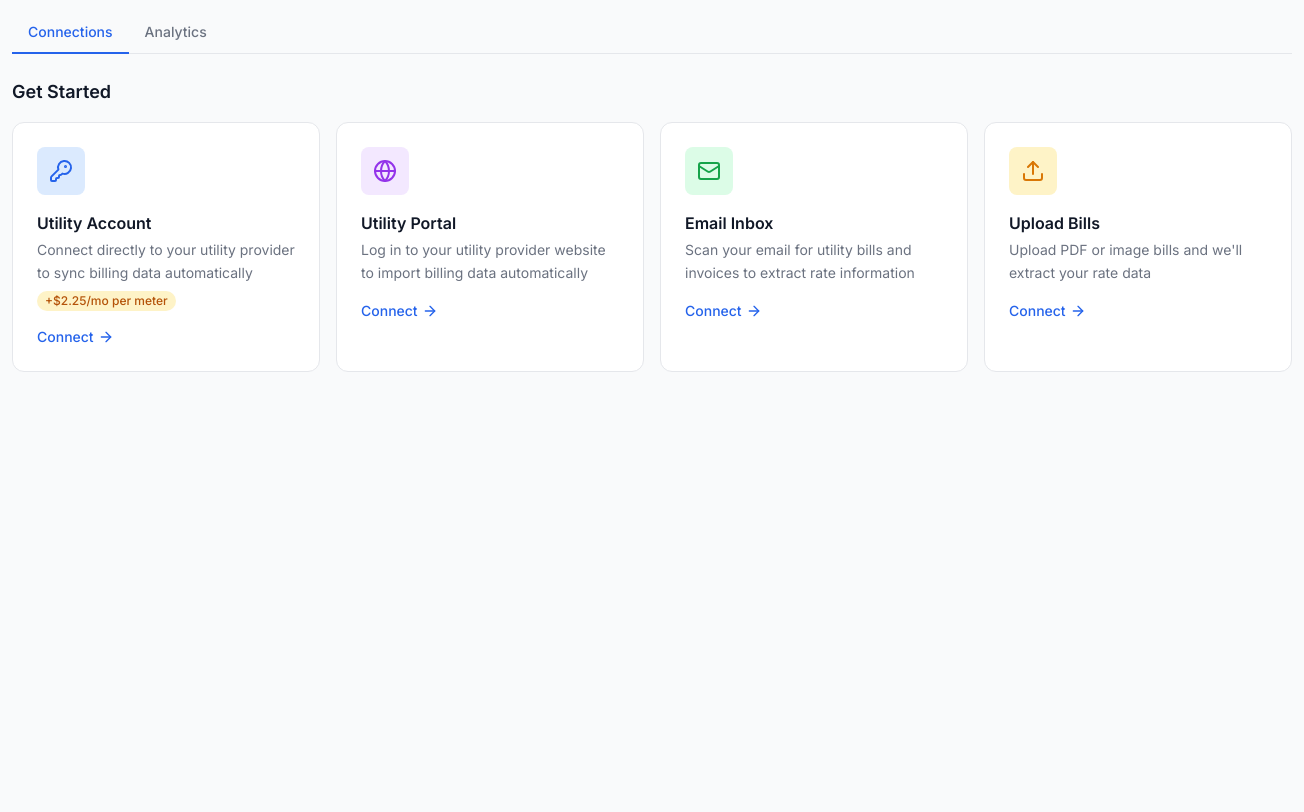
Test case: ConnectionsOverview › switches to analytics tab when clicked
expect the heading "Get Started" is shown: met, box [12,81,111,102]
Click the tab "Analytics": coordinates (176, 33) [129,12,223,54]
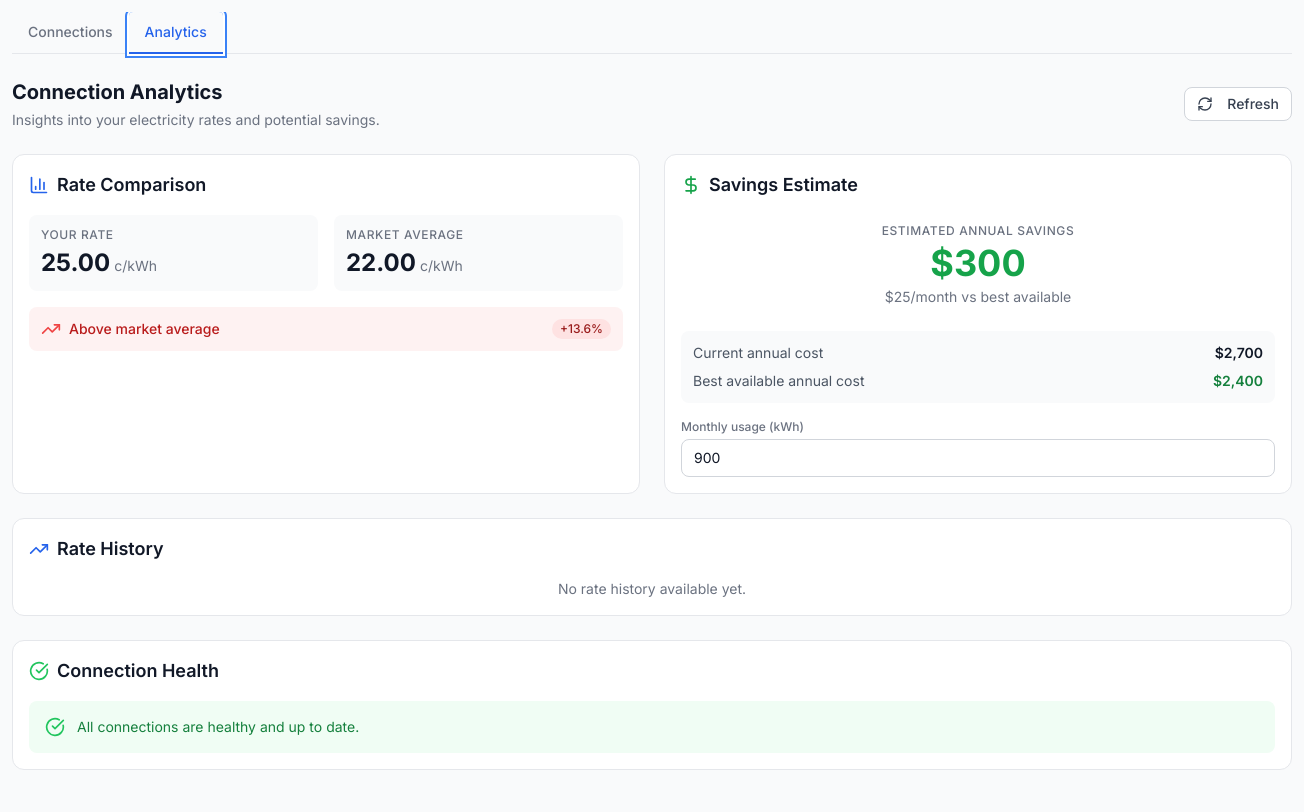
expect the heading "Connection Analytics" is shown: met, box [12,80,223,104]
